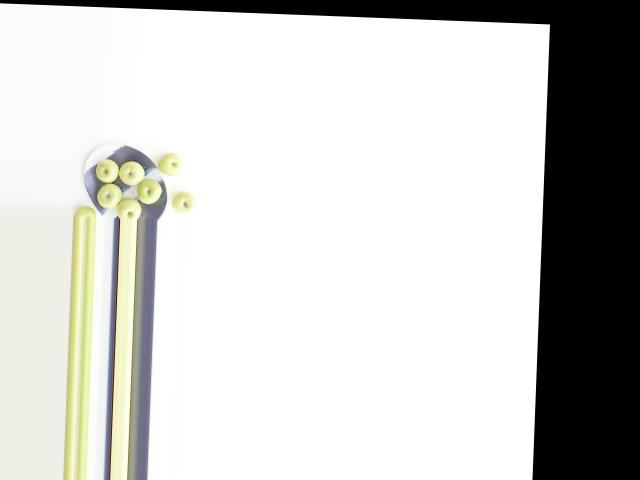apple: (95, 156, 120, 183)
